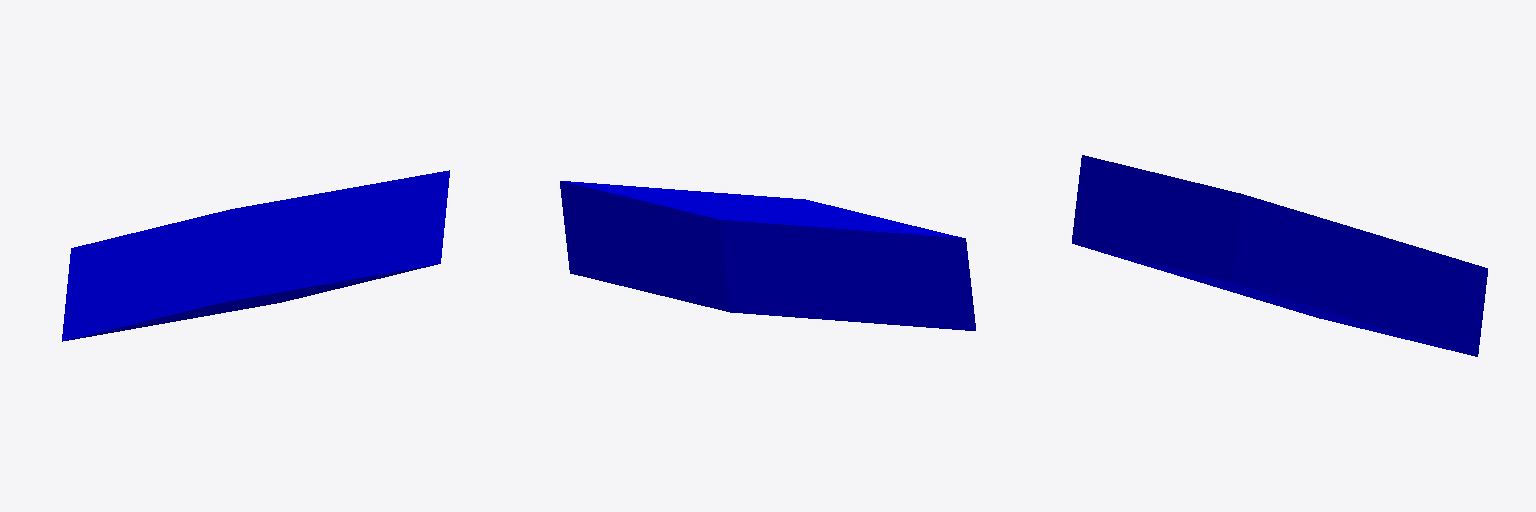
The model's file is planes_1-dynamic - BLK2GO-3630355-Scan 080 25.obj.
3 renders of one model, left to right at view 1: azimuth 30°, elevation 25°; view 2: azimuth 150°, elevation 25°; view 3: azimuth 330°, elevation 25°, orthographic.
Visible parts, largest first — view 1: 1-dynamic_-_BLK2GO-[number redacted]-Scan_080_25_0; view 2: 1-dynamic_-_BLK2GO-[number redacted]-Scan_080_25_0; view 3: 1-dynamic_-_BLK2GO-[number redacted]-Scan_080_25_0.
Boxes of the visible parts, x1,y1,x2,y2 form: 1-dynamic_-_BLK2GO-[number redacted]-Scan_080_25_0: [62, 170, 449, 341]; 1-dynamic_-_BLK2GO-[number redacted]-Scan_080_25_0: [560, 181, 975, 330]; 1-dynamic_-_BLK2GO-[number redacted]-Scan_080_25_0: [1072, 155, 1487, 356].
Size of the model in its own units: 2.54 by 0.7148 by 0.1555.